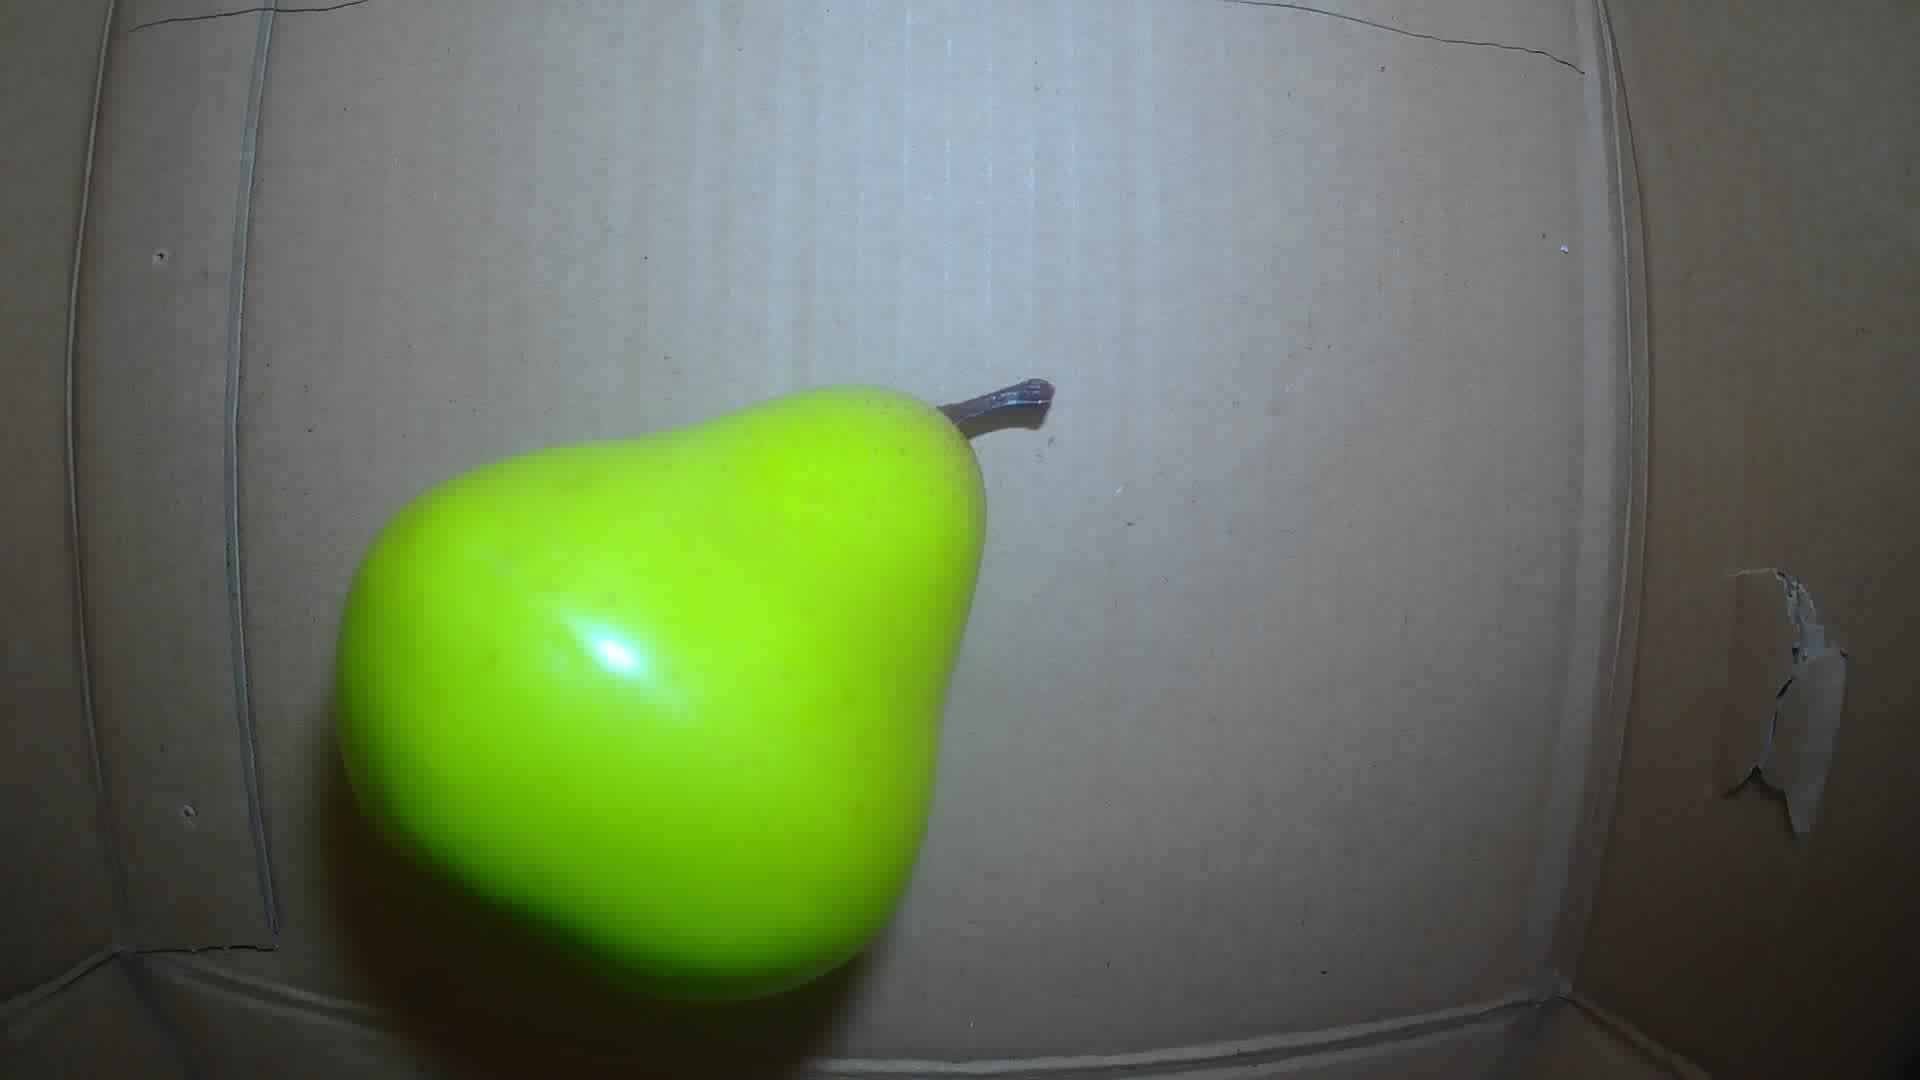pear: (335, 365, 1056, 1001)
